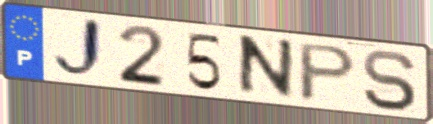2: (115, 23, 167, 90)
5: (184, 30, 224, 92)
J: (51, 15, 107, 82)
N: (235, 33, 296, 102)
P: (297, 41, 361, 104)
S: (361, 48, 419, 113)
